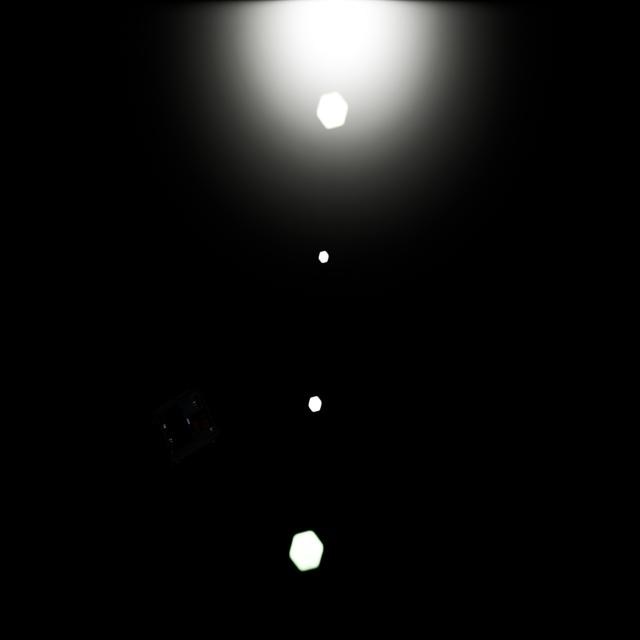medium_debris: (148, 383, 226, 495)
